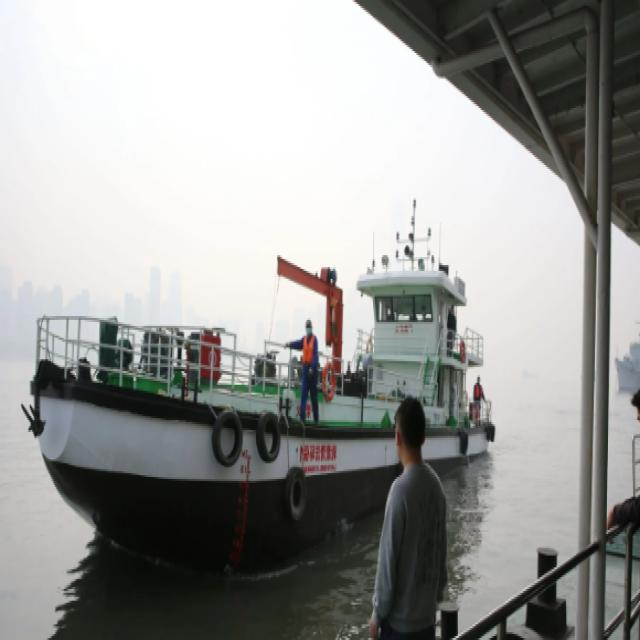fishing boat: (14, 227, 506, 583)
